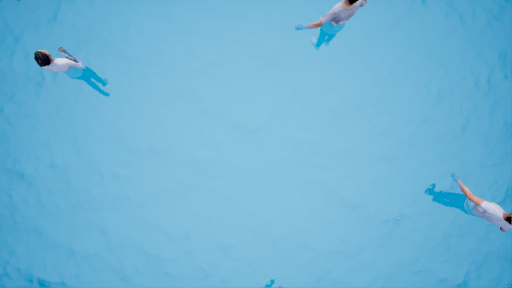person: (421, 167, 512, 239), (288, 1, 372, 52), (35, 47, 113, 98)
